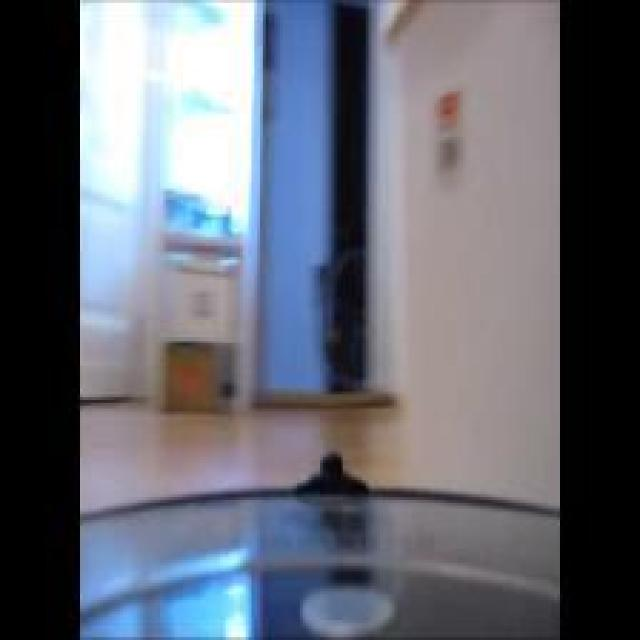other: (165, 22, 238, 210), (159, 346, 215, 416)
